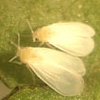whitefly: (10, 35, 85, 97), (26, 18, 96, 58)
